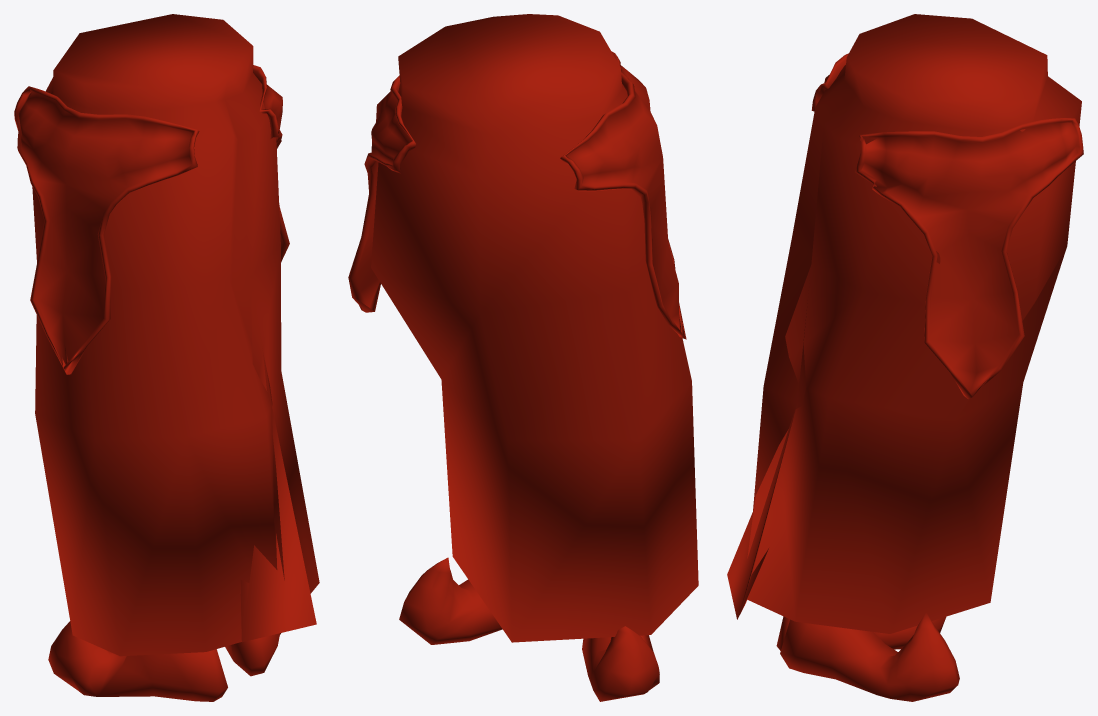
The model's file is bot_000092.obj.
3 views of the same model, side by side, from view 1: azimuth 30°, elevation 25°; view 2: azimuth 150°, elevation 25°; view 3: azimuth 270°, elevation 25° (orthographic). The views are drawn at different scales.
Visible parts, largest first — view 1: LowPoly_Warlock.004_Plane.004; view 2: LowPoly_Warlock.004_Plane.004; view 3: LowPoly_Warlock.004_Plane.004.
Part boxes in pixels (x1,y1,x2,y2): LowPoly_Warlock.004_Plane.004: (14, 14, 319, 701); LowPoly_Warlock.004_Plane.004: (348, 14, 698, 701); LowPoly_Warlock.004_Plane.004: (727, 14, 1083, 701).
Bounding box in the file's own units: 0.513 × 1.11 × 0.5768.
